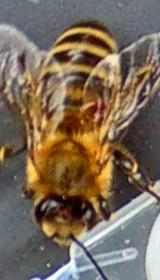varroa_mite: (76, 94, 110, 126)
